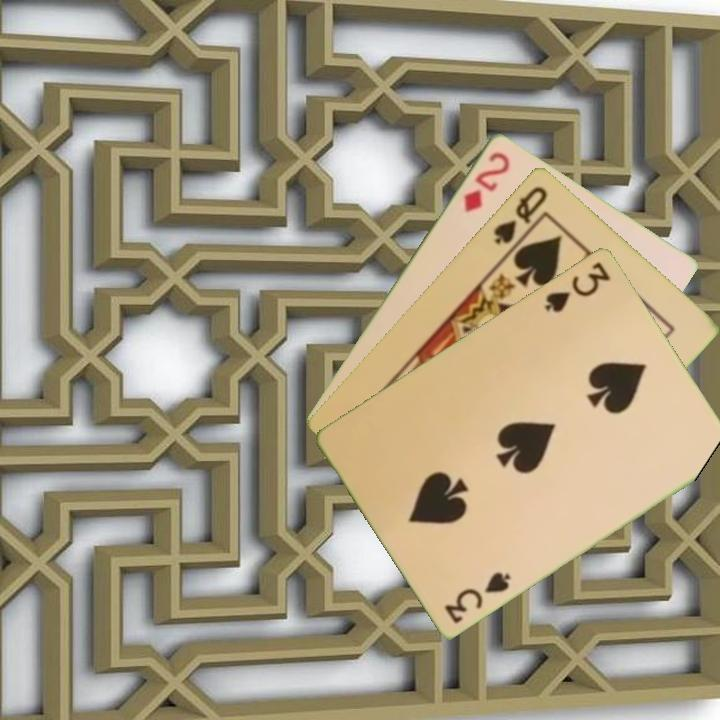2d: (460, 147, 513, 215)
3s: (440, 567, 514, 626), (541, 257, 614, 315)
Qs: (490, 182, 551, 247)
